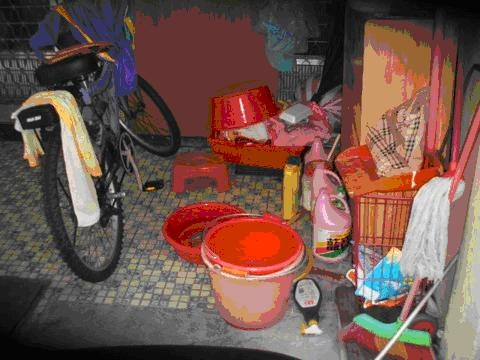bottle: (310, 188, 352, 263), (282, 159, 302, 220)
bowl: (161, 201, 249, 264), (210, 79, 278, 131)
box: (280, 102, 313, 124)
bucket: (200, 219, 305, 331)
